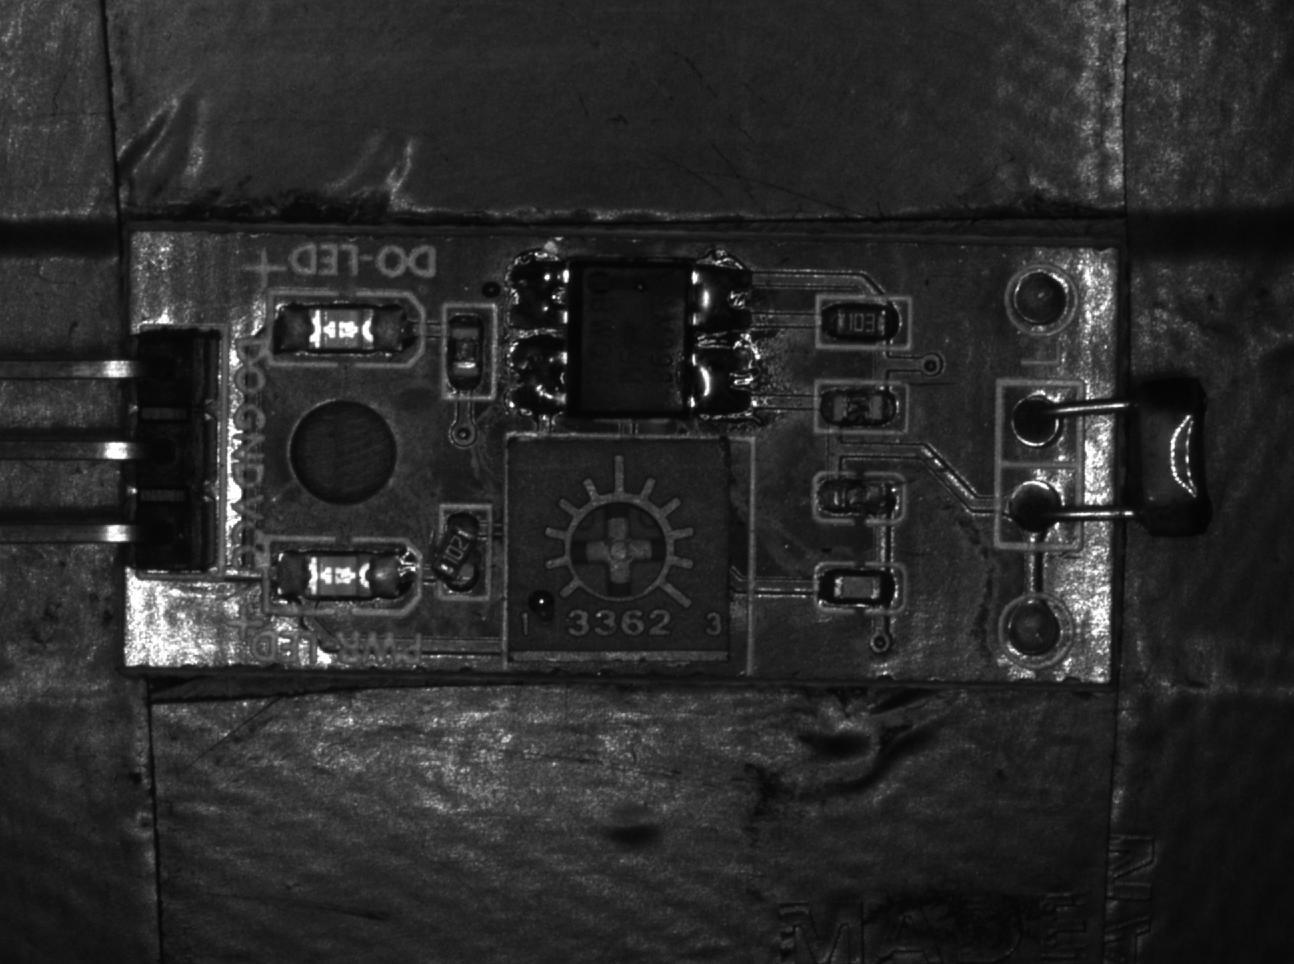bridge: (690, 346, 758, 418), (690, 261, 756, 335), (508, 338, 564, 418), (510, 257, 569, 332)
lifted: (436, 500, 491, 599)
miss: (816, 383, 907, 433), (444, 306, 491, 397)
ok: (820, 293, 910, 350), (814, 471, 904, 526), (814, 561, 905, 611)
